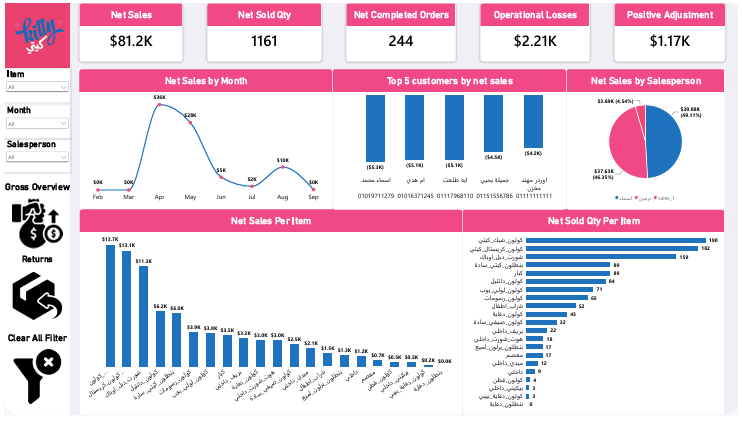

Layout of this report page (visuals, bound fields, positions):
{"tool":"powerbi","page":{"name":"Net Overview","canvas":[1920,1080],"ordinal":1},"visuals":[{"type":"card","title":"Net Sales","fields":{"Values":["_Measure.Net Sales"]},"box":[196.5,0,270,153.1],"z":0},{"type":"card","title":"Net Sold Qty","fields":{"Values":["_Measure.Net Sold QTY"]},"box":[530.8,0,299.8,153.1],"z":1000},{"type":"card","title":"Operational Losses","fields":{"Values":["_Measure.Opertional Loses"]},"box":[1246.2,0,287,153.1],"z":2000},{"type":"card","title":"Positive Adjustment","fields":{"Values":["_Measure.Positive Adjustment"]},"box":[1597.5,0,289.1,153.1],"z":3000},{"type":"image","box":[0,0,174.3,168],"z":4000},{"type":"lineChart","title":"Net Sales by Month","fields":{"Y":["_Measure.Net Sales"],"Category":["DimDate.Short Month"]},"box":[195.6,172.2,663.3,367.8],"z":5000},{"type":"clusteredBarChart","title":"Net Sold Qty Per Item","fields":{"Category":["DimItem.الصنف"],"Y":["_Measure.Net Sold QTY"]},"box":[1199.4,539.2,685.4,541.7],"z":6000},{"type":"columnChart","title":"Net Sales Per Item","fields":{"Category":["DimItem.الصنف"],"Y":["_Measure.Net Sales"]},"box":[196.5,539.2,1002.8,541.7],"z":7000},{"type":"pieChart","title":"Net Sales by Salesperson","fields":{"Y":["_Measure.Net Sales"],"Category":["DimSalesperson.المسئول عن الاوردر"]},"box":[1471.2,172.2,414.6,367.8],"z":8000},{"type":"columnChart","title":"Top 5 customers by net sales","fields":{"Category":["DimCustomer.رقم التليفون","DimCustomer.الاسم"],"Y":["_Measure.Net Sales"]},"box":[858.9,172.2,612.3,367.8],"z":9000},{"type":"slicer","title":"Item","fields":{"Values":["DimItem.الصنف"]},"box":[0,171.3,173.9,88.2],"z":10000},{"type":"slicer","fields":{"Values":["DimDate.Full Month"]},"box":[0,267.1,173.9,88.2],"z":11000},{"type":"slicer","fields":{"Values":["DimSalesperson.المسئول عن الاوردر"]},"box":[0,355.3,173.9,88.2],"z":12000},{"type":"card","title":"Net Completed Orders","fields":{"Values":["_Measure.NetNumberOfOrders"]},"box":[894.9,0,287,153.1],"z":13000},{"type":"image","title":"Returns","box":[0,656.9,174.3,176.5],"z":13001},{"type":"image","title":"Gross Overview","box":[0,467.7,174.3,174.3],"z":13002},{"type":"image","title":"Clear All Filter","box":[0,863.1,174.3,185],"z":13003}]}

Visuals, with their boxes in screenshot pixels (x1, y1, x2, y2), scaled from the page's 1920x1080 canvas onto the 742x425 screenshot:
"Net Sales" card: rect(76, 0, 180, 60)
"Net Sold Qty" card: rect(205, 0, 321, 60)
"Operational Losses" card: rect(482, 0, 593, 60)
"Positive Adjustment" card: rect(617, 0, 729, 60)
image: rect(0, 0, 67, 66)
"Net Sales by Month" lineChart: rect(76, 68, 332, 213)
"Net Sold Qty Per Item" clusteredBarChart: rect(464, 212, 728, 424)
"Net Sales Per Item" columnChart: rect(76, 212, 463, 424)
"Net Sales by Salesperson" pieChart: rect(569, 68, 729, 213)
"Top 5 customers by net sales" columnChart: rect(332, 68, 569, 213)
"Item" slicer: rect(0, 67, 67, 102)
slicer - DimDate.Full Month: rect(0, 105, 67, 140)
slicer - DimSalesperson.المسئول عن الاوردر: rect(0, 140, 67, 175)
"Net Completed Orders" card: rect(346, 0, 457, 60)
"Returns" image: rect(0, 259, 67, 328)
"Gross Overview" image: rect(0, 184, 67, 253)
"Clear All Filter" image: rect(0, 340, 67, 412)
